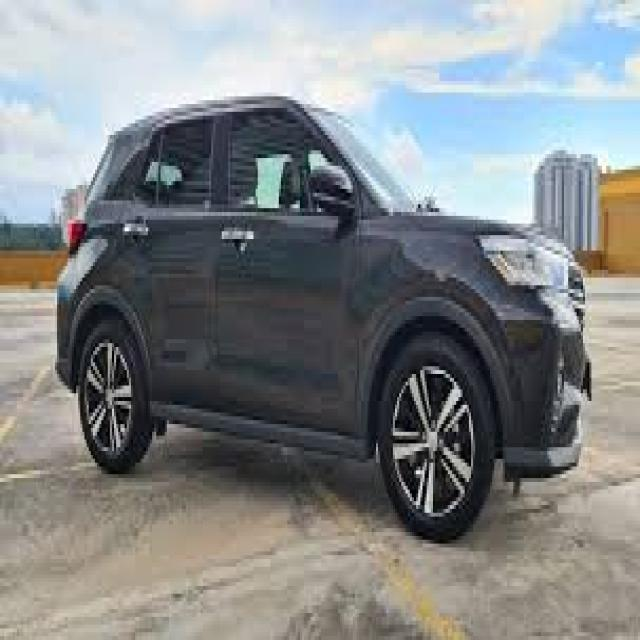PeroduaAtiva: (53, 89, 593, 544)
